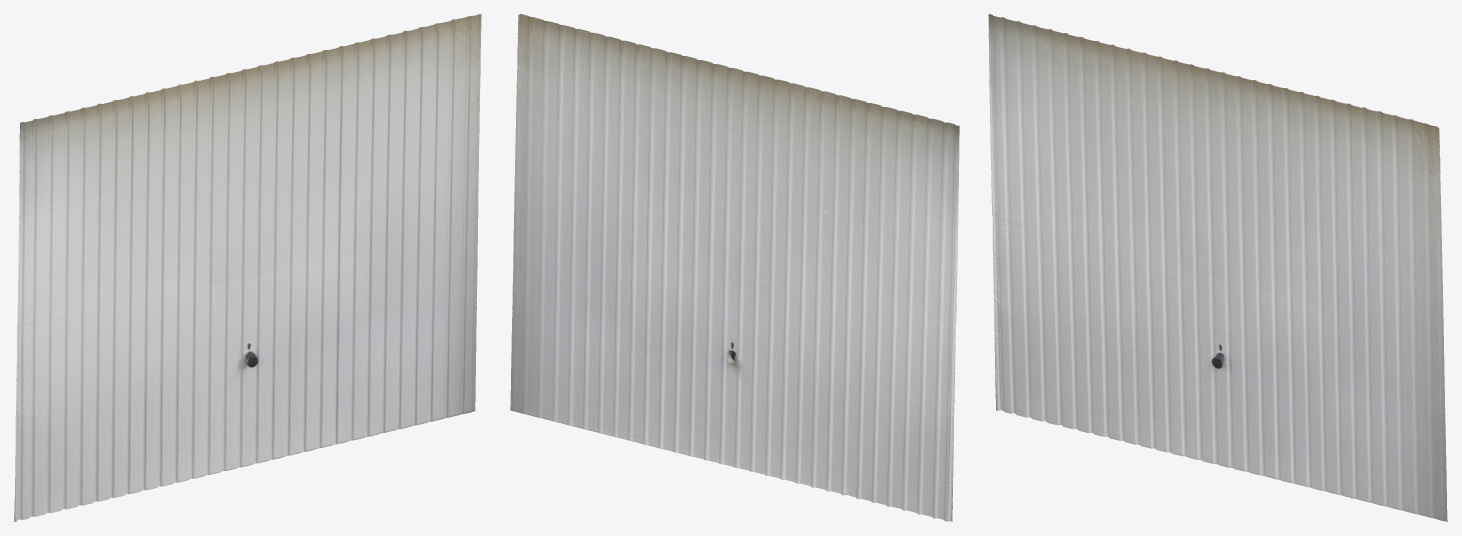
File: gar_white.glb
3 renders of one model, left to right at view 1: azimuth 30°, elevation 25°; view 2: azimuth 150°, elevation 25°; view 3: azimuth 330°, elevation 25°, orthographic. The views are drawn at different scales.
Visible parts, largest first — view 1: Model; view 2: Model; view 3: Model.
Boxes of the visible parts, x1,y1,x2,y2 form: Model: (14,14,481,521); Model: (510,14,959,521); Model: (988,14,1447,521).
Size of the model in its own units: 29.35 by 24.73 by 1.31.
1 material, 1 textured.
